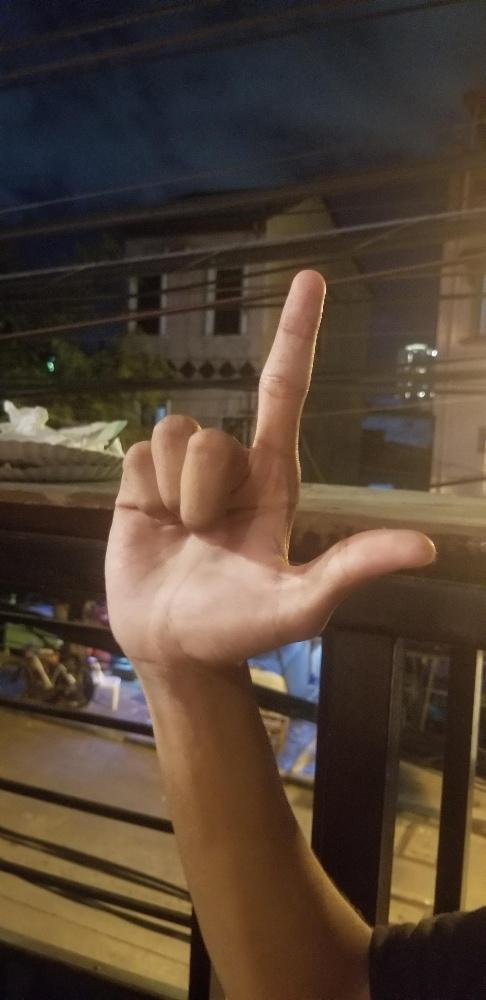l: (101, 269, 436, 667)
